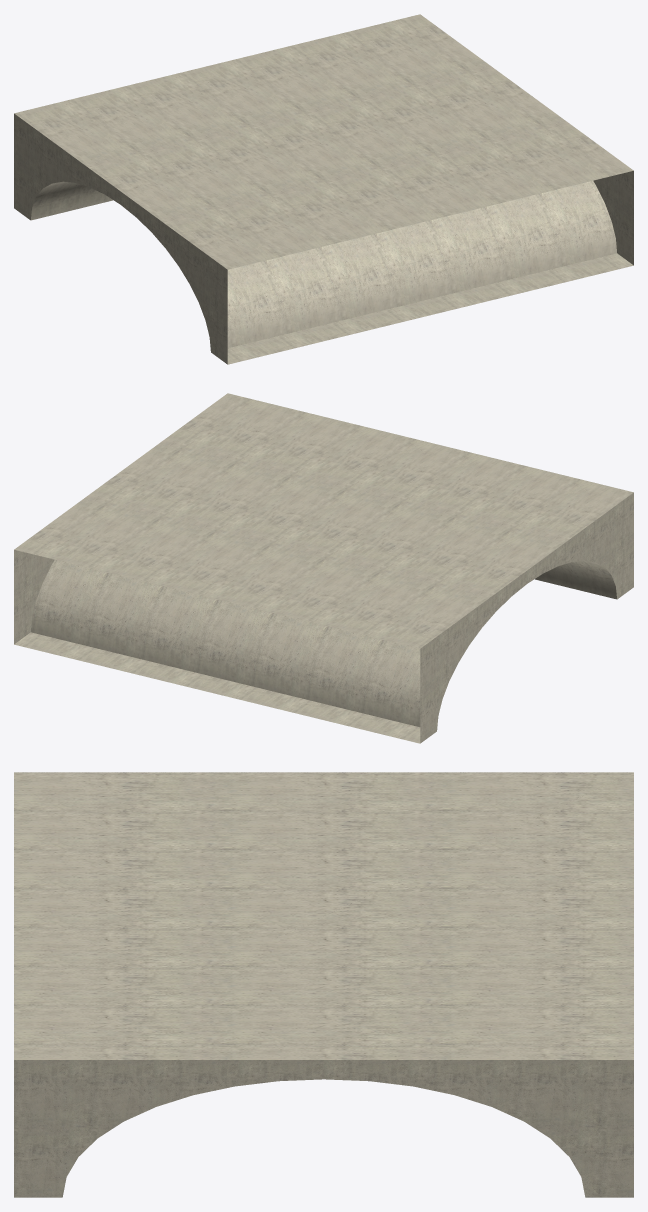
File: BridgeBase8-4L-40M.FBX
3 views of the same model, one above another, from view 1: azimuth 30°, elevation 25°; view 2: azimuth 150°, elevation 25°; view 3: azimuth 270°, elevation 25° (orthographic). The views are drawn at different scales.
Parts seen in each view (by area): view 1: BridgeBase8-4L-40M; view 2: BridgeBase8-4L-40M; view 3: BridgeBase8-4L-40M.
Part boxes in pixels (x1=…): BridgeBase8-4L-40M: x1=14, y1=14, x2=633, y2=364; BridgeBase8-4L-40M: x1=14, y1=393, x2=633, y2=743; BridgeBase8-4L-40M: x1=14, y1=772, x2=633, y2=1197.
Size of the model in its own units: 28 by 6.25 by 25.52.
